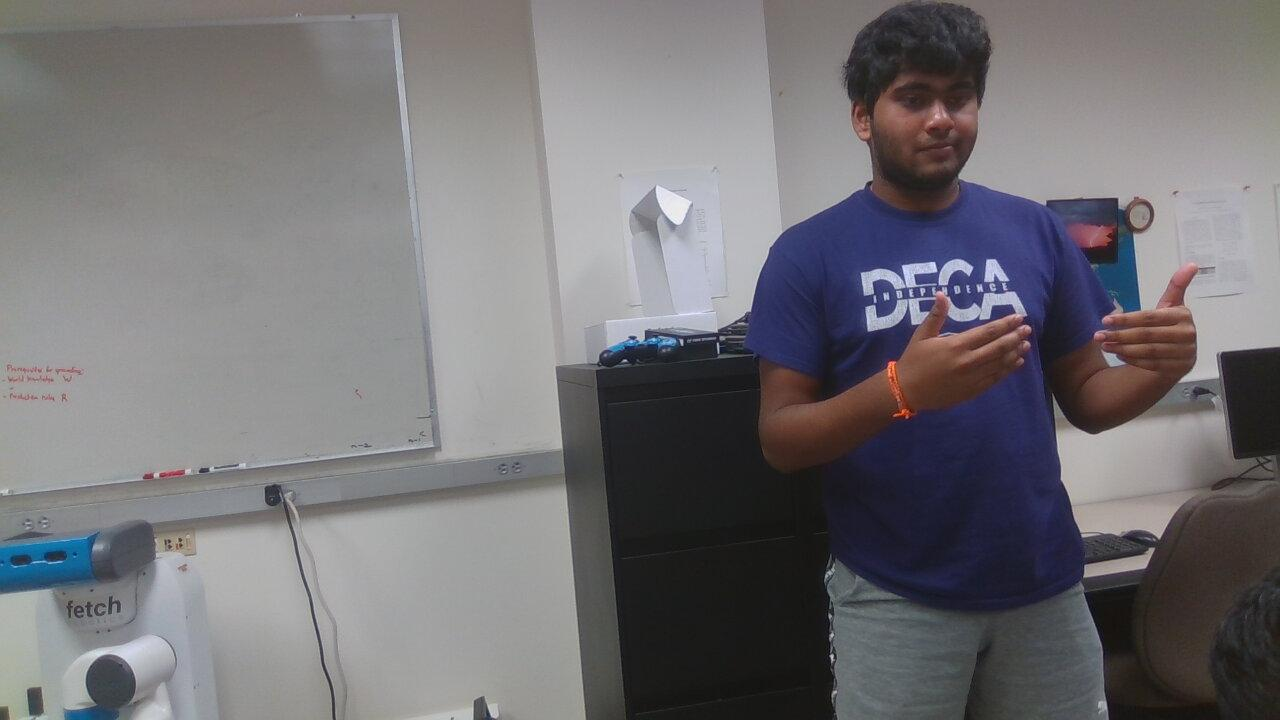hands: (1071, 252, 1234, 390), (886, 289, 1042, 415)
